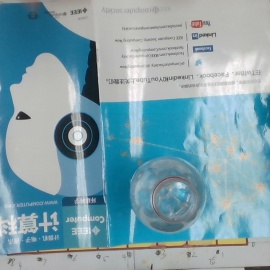bottle: (128, 156, 205, 231)
